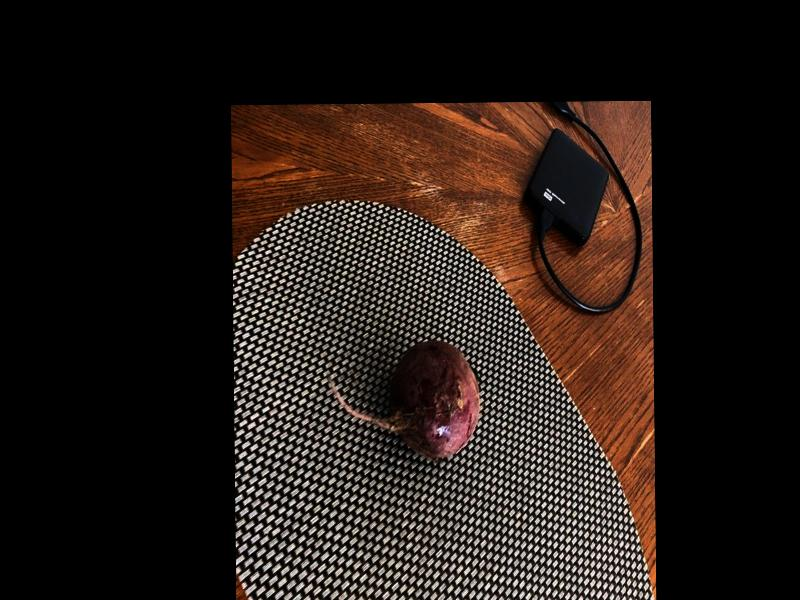Beet: (326, 341, 479, 460)
